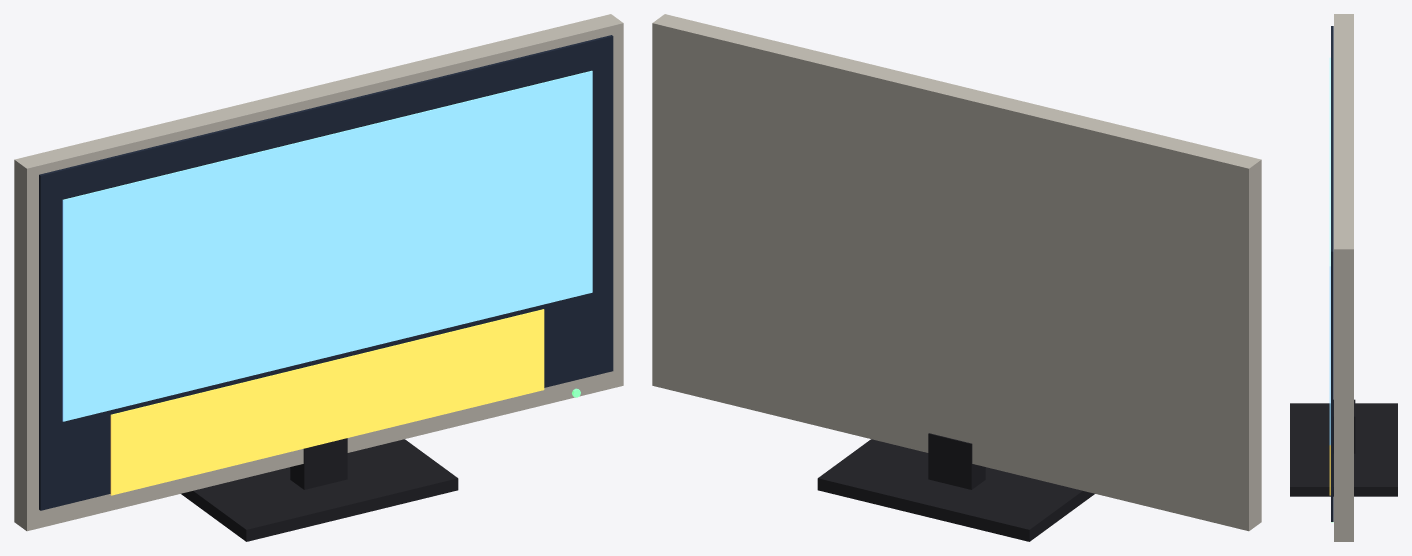
File: hero_plasma.glb
The picture shows the model from 3 angles, left to right: view 1: azimuth 30°, elevation 25°; view 2: azimuth 150°, elevation 25°; view 3: azimuth 270°, elevation 25°; orthographic projection. The views are drawn at different scales.
Visible parts, largest first — view 1: hero_plasma; view 2: hero_plasma; view 3: hero_plasma.
Part boxes in pixels (x1=…): hero_plasma: x1=14, y1=14, x2=623, y2=541; hero_plasma: x1=652, y1=14, x2=1261, y2=541; hero_plasma: x1=1290, y1=14, x2=1397, y2=541.
Size of the model in its own units: 1.24 by 0.795 by 0.24.
